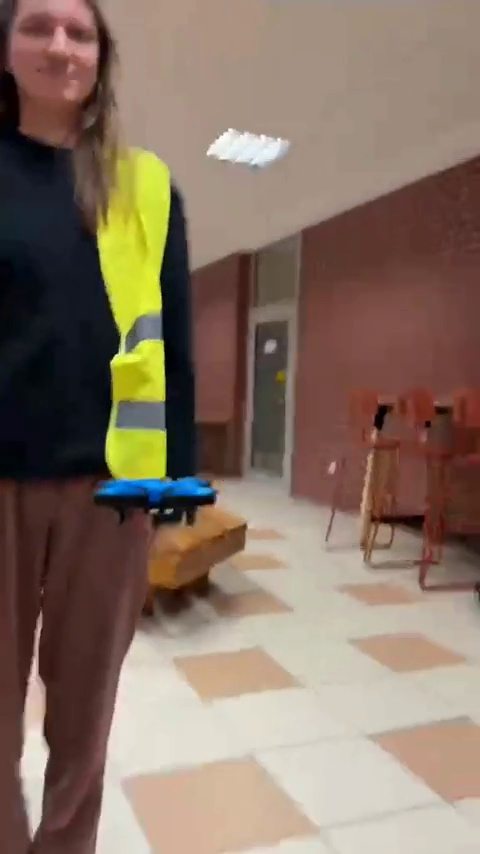drone: (96, 475, 215, 530)
vest: (2, 63, 200, 838)
